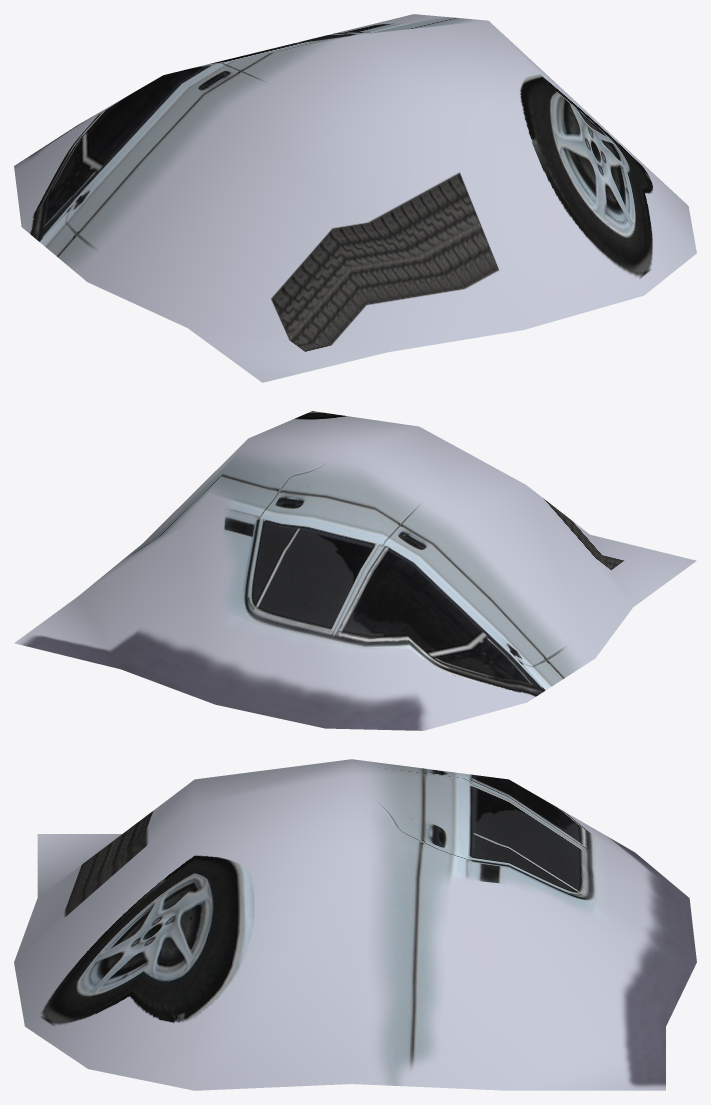
Rendered from bard2.FBX.
3 views of the same model, one above another, from view 1: azimuth 30°, elevation 25°; view 2: azimuth 150°, elevation 25°; view 3: azimuth 270°, elevation 25° (orthographic). The views are drawn at different scales.
Parts seen in each view (by area): view 1: barduyr2; view 2: barduyr2; view 3: barduyr2.
Boxes of the visible parts, box(x1,y1,x2,y2) form: barduyr2: box(14, 14, 696, 382); barduyr2: box(14, 411, 696, 730); barduyr2: box(14, 759, 696, 1090).
Size of the model in its own units: 113 by 36.49 by 121.
